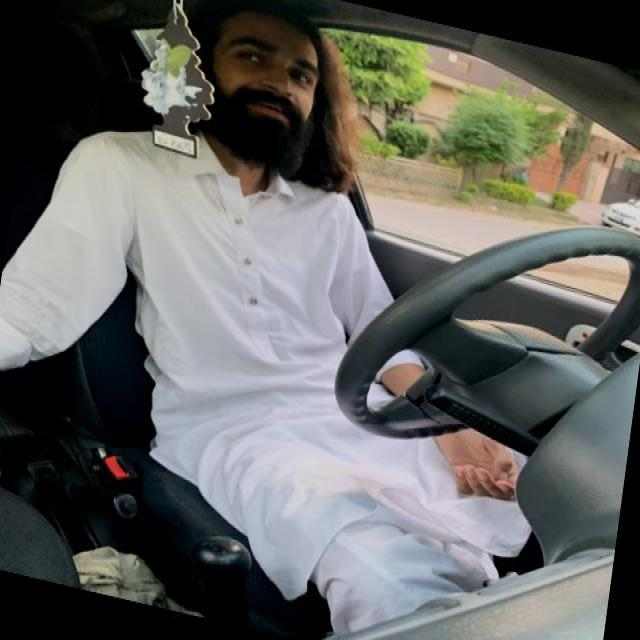no-seatbelt: (101, 122, 478, 490)
